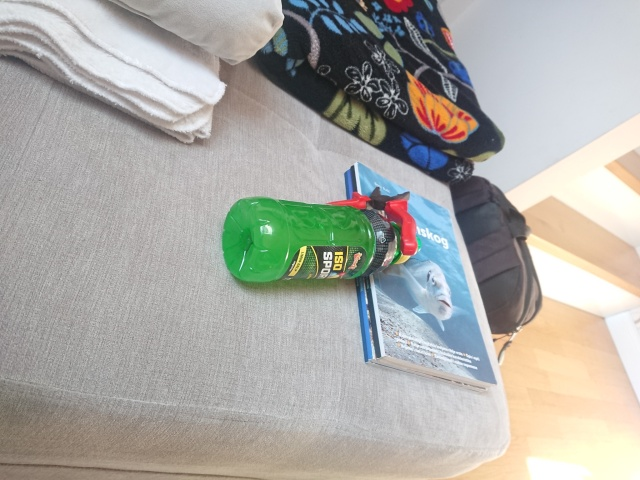Vindi Iso Sport Lemon-Grapefruit 500mL: (219, 193, 424, 286)
